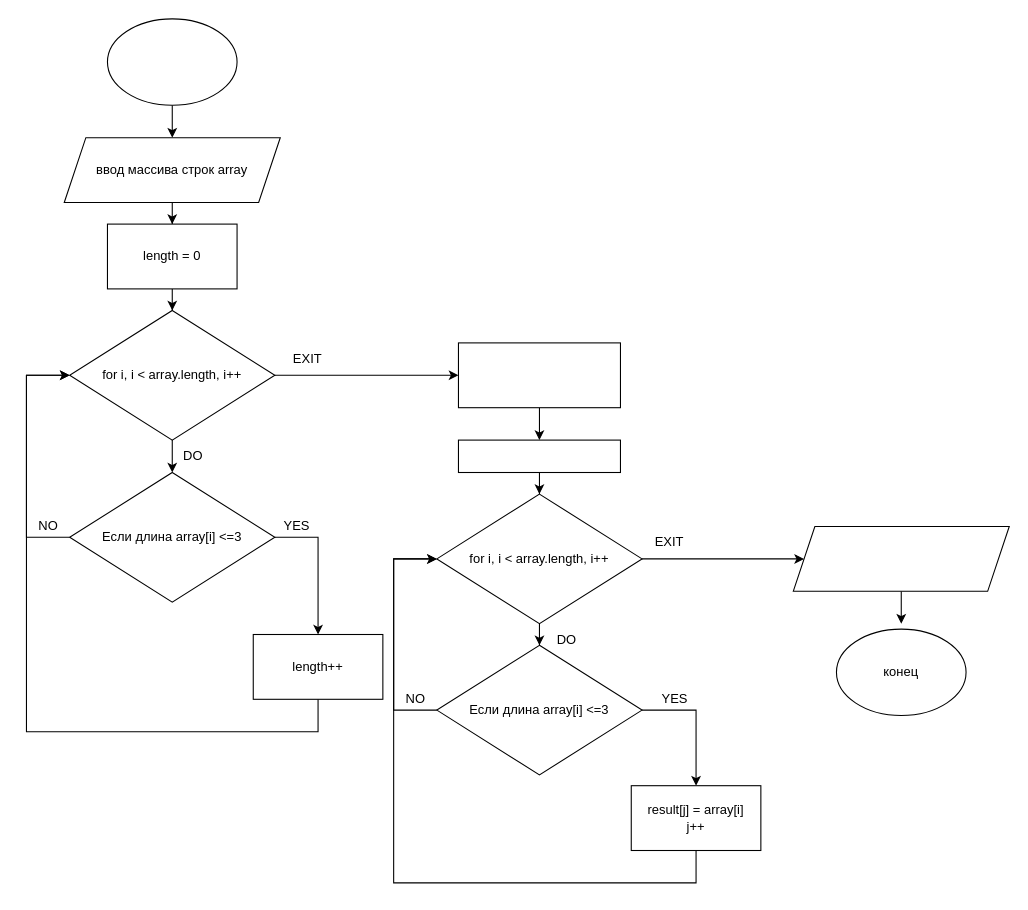
The diagram is 1028 pixels wide and 910 high, and some of its shapes have lost their labels. Each missing label, with the centre of its shape:
j=0: [538,456]
вывод массива result: [900,558]
Инициализировать массив result длиной length: [538,375]
начало: [171,61]
